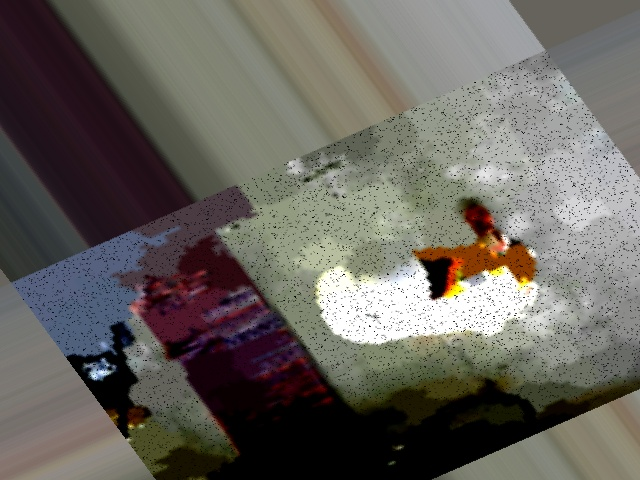three: (334, 304, 382, 339)
